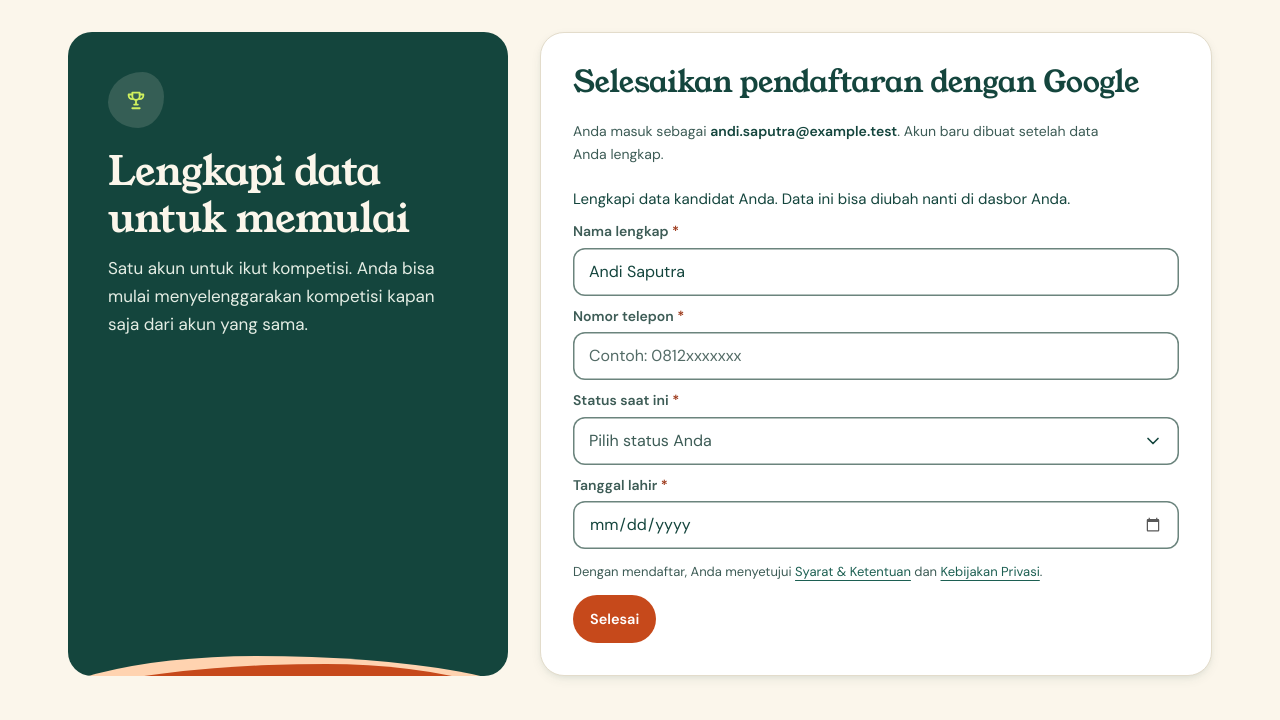
Scenario: what a Google sign-up sends and where it returns › says to sign up by email and code when Google has not verified the address
Type "081234567890" into the field labelled "Nomor telepon *". click: (876, 356)
box: [573, 332, 1179, 380]
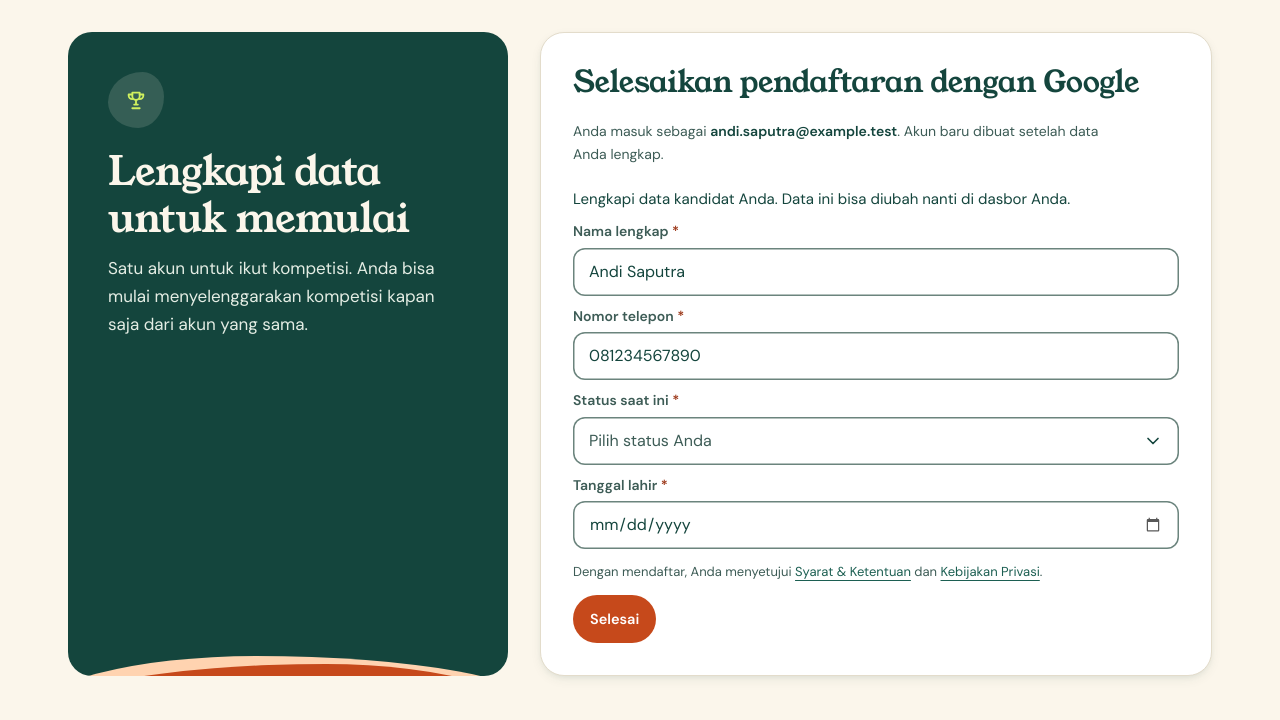
Click the dropdown named "Status saat ini (wajib)". click: (650, 440)
box: [573, 417, 1179, 465]
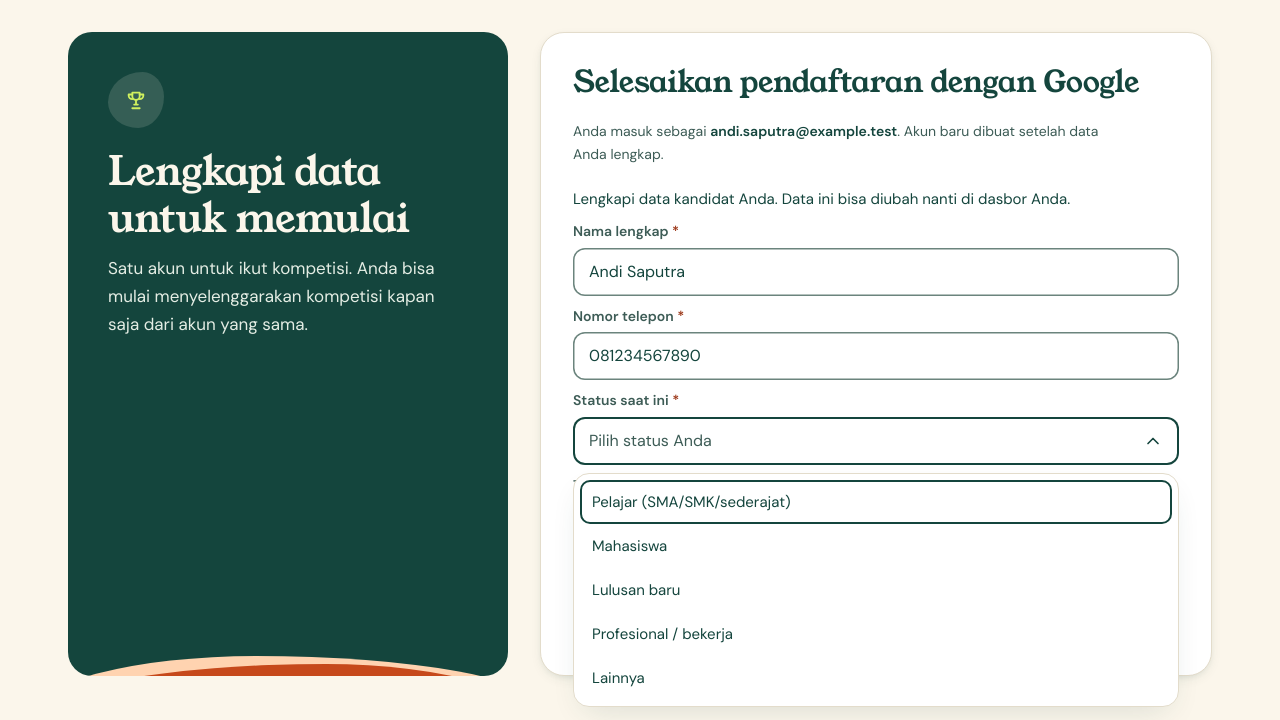
Click the option "Mahasiswa". click: (630, 546)
box: [592, 536, 667, 556]
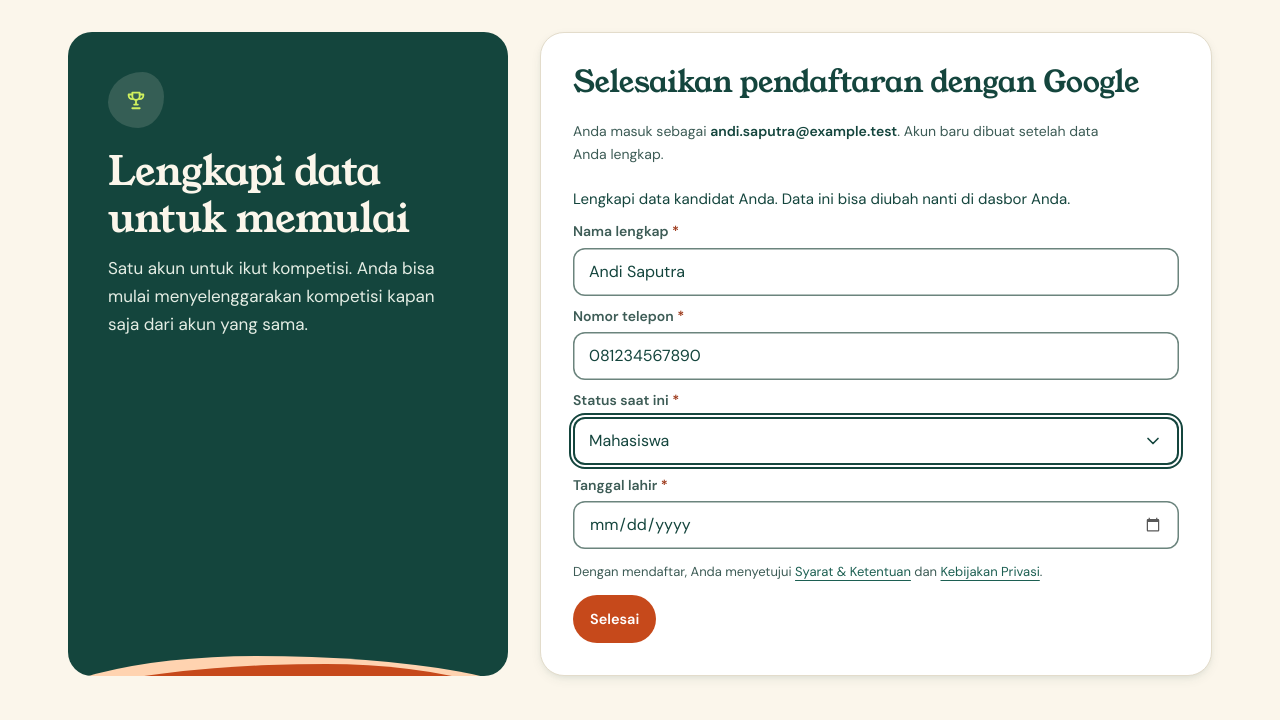
Type "2000-01-31" into the date field labelled "Tanggal lahir *". click: (876, 525)
box: [573, 501, 1179, 549]
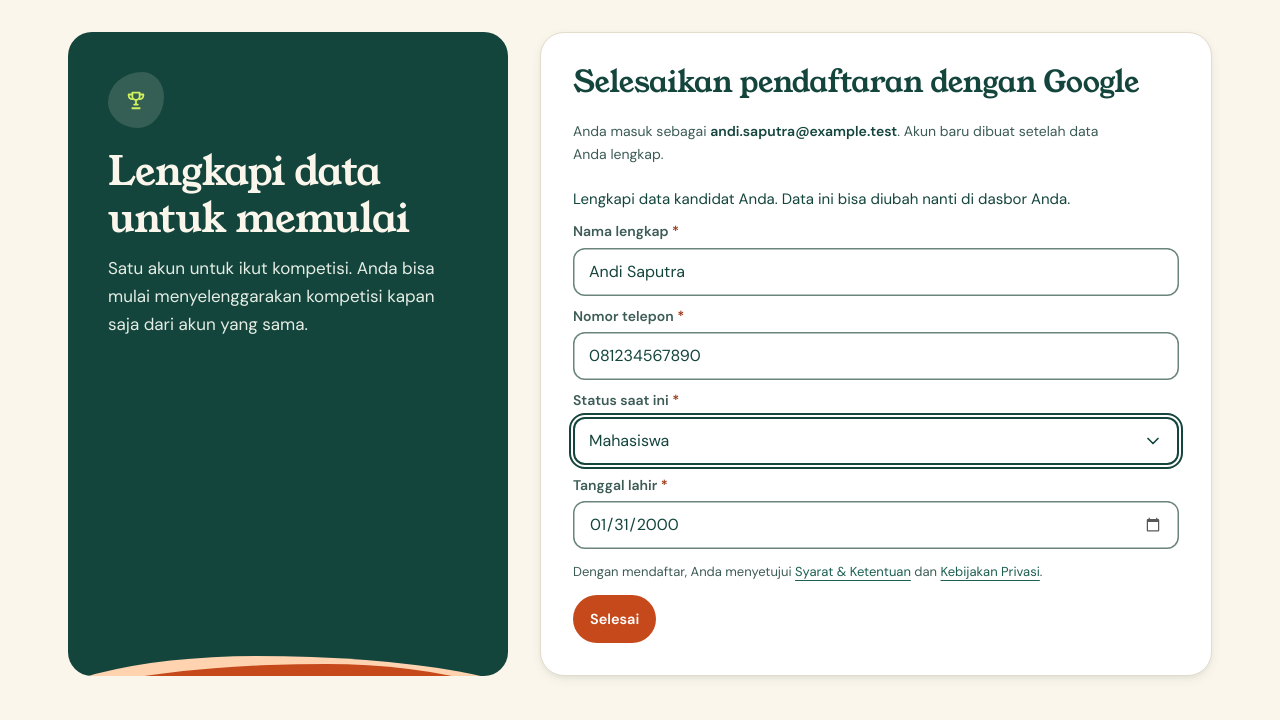
Click the button "Selesai". click: (615, 619)
box: [573, 595, 656, 643]
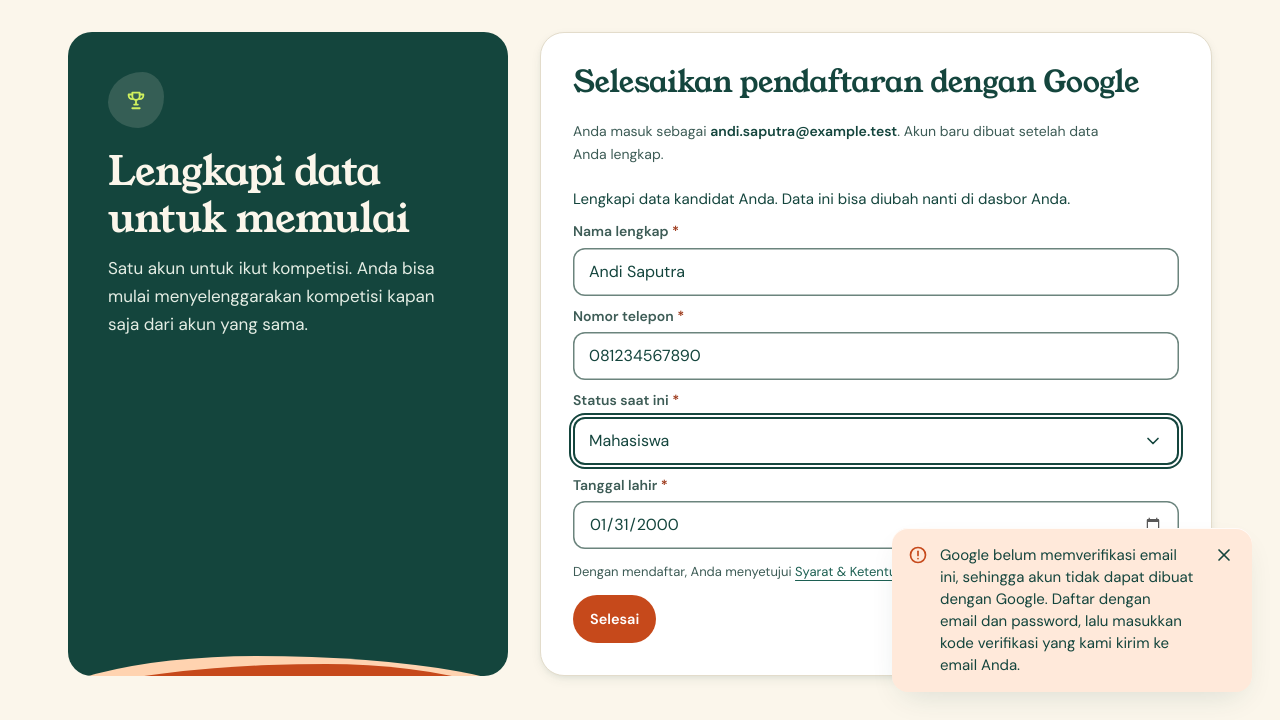
Now the text "Google belum memverifikasi email ini, sehingga akun tidak dapat dibuat dengan Google. Daftar dengan email dan password, " is shown, box [940, 545, 1193, 675]
